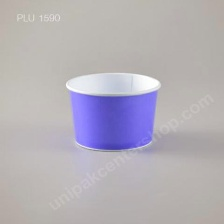paper_cup: (60, 64, 166, 157)
